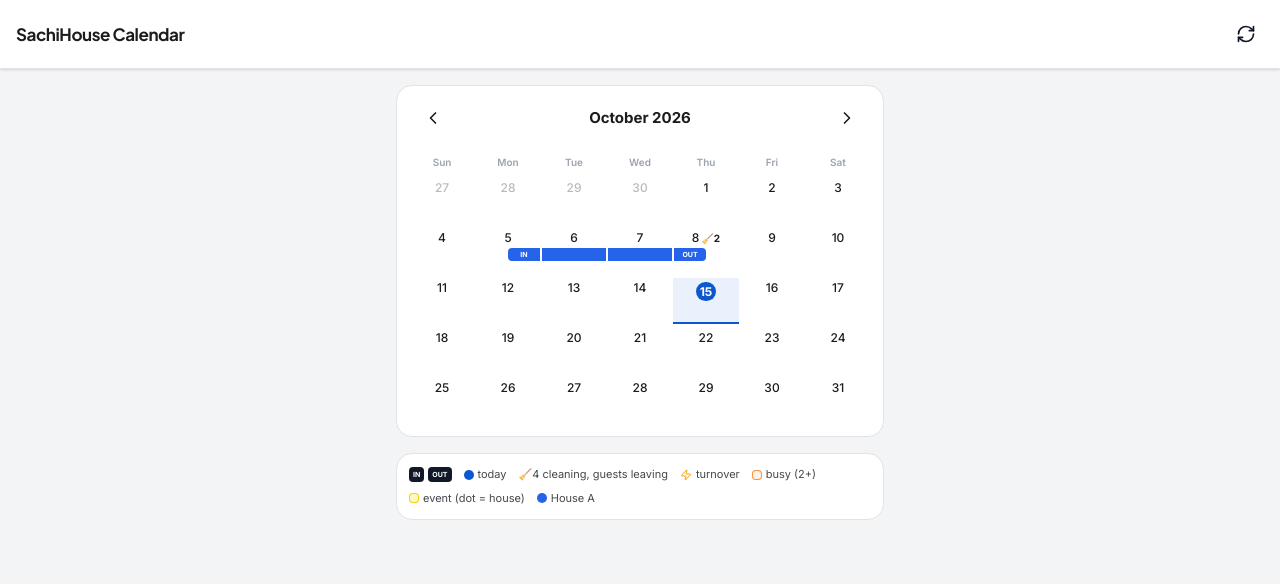
Scenario: CleaningCalendarPage — events are display only › 28: refresh picks up new events; a failed refresh keeps them
Click the button named "Refresh". click: {"x": 1246, "y": 34}
box: [1228, 16, 1264, 52]
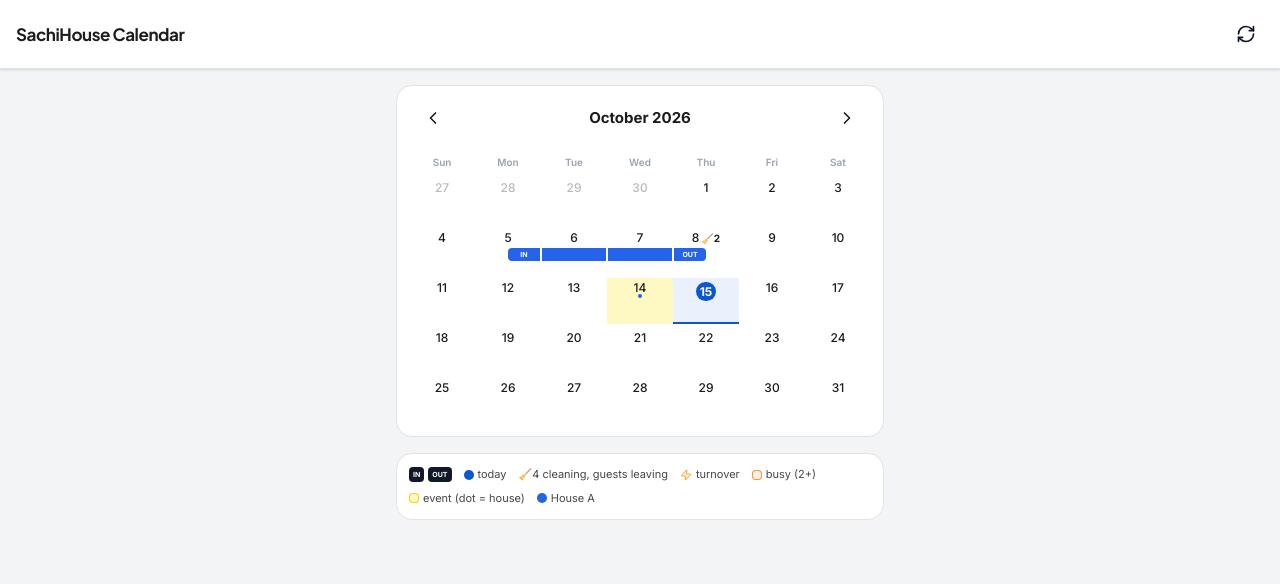
Click the button named "Refresh". click: {"x": 1246, "y": 34}
box: [1228, 16, 1264, 52]
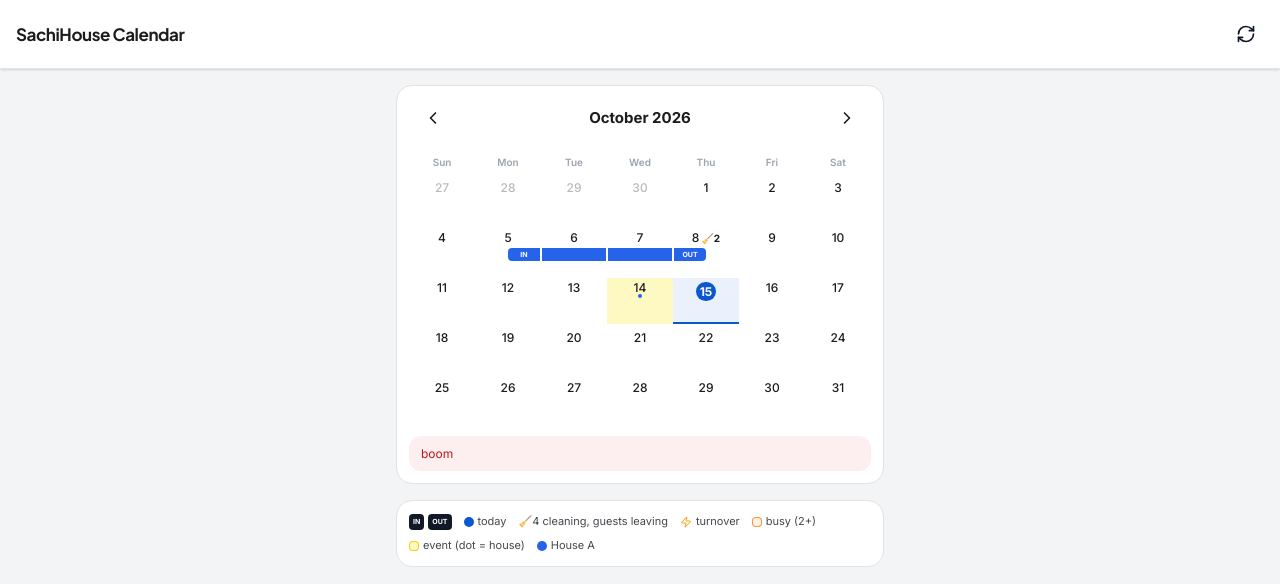
Check: the text "In" below "Sun" is shown, box [520, 250, 528, 259]
Check: the text "boom" is shown, box [409, 436, 871, 471]
